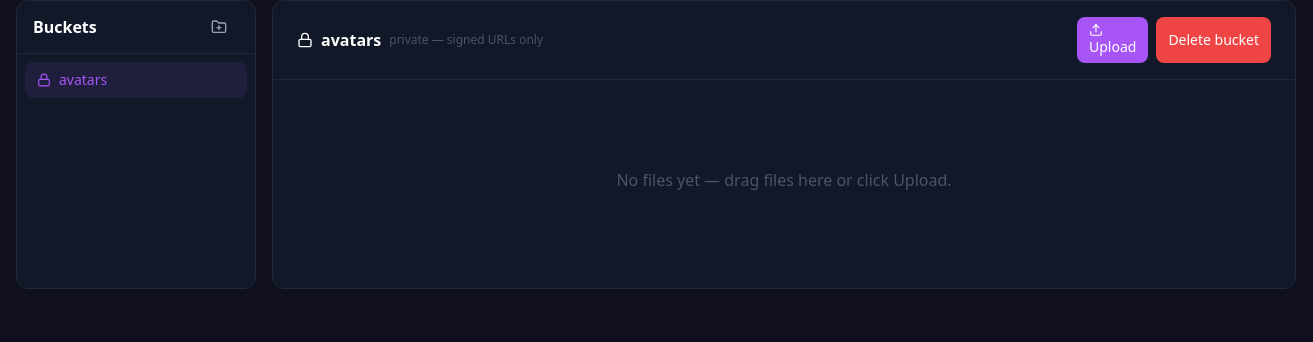
Test: Storage — bucket list and delete › a refused delete shows the reason
Step 1. Click the button "Delete bucket" → (1214, 40), box [1156, 17, 1271, 63]
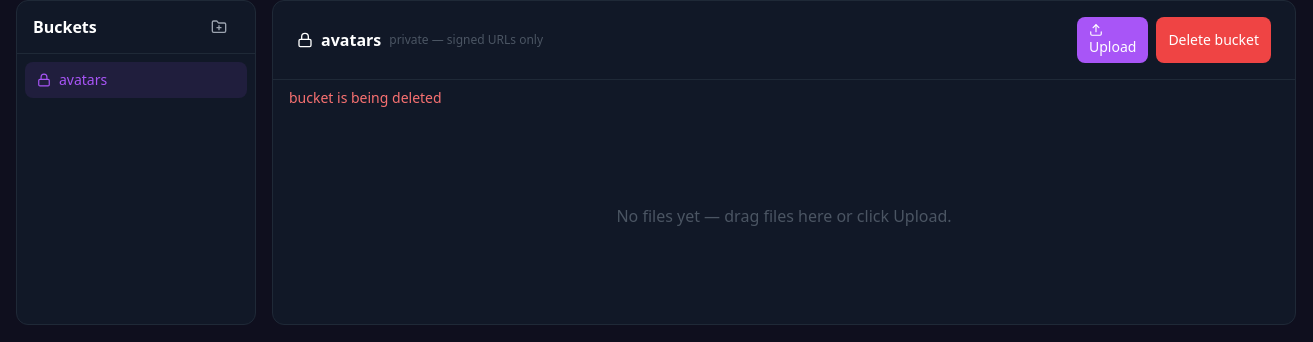
Result: the message with test id "bucket-delete-error" reads "bucket is being deleted" at [289, 88, 442, 107]
